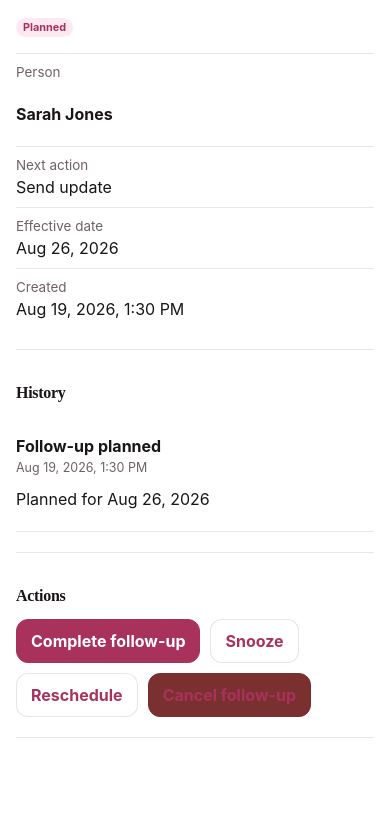
Test: V1-07 full FollowUp screens › shows FollowUp lifecycle state and makes a cancelled plan read-only
(page scrolled)
Expected: the text "Planned" is shown, top-left (16, 18), bottom-right (73, 37)
Expected: the heading "Follow-up planned" is shown, top-left (16, 436), bottom-right (161, 456)
Click the button "Cancel follow-up" at (229, 695), box top-left (148, 673), bottom-right (311, 717)
(page scrolled)
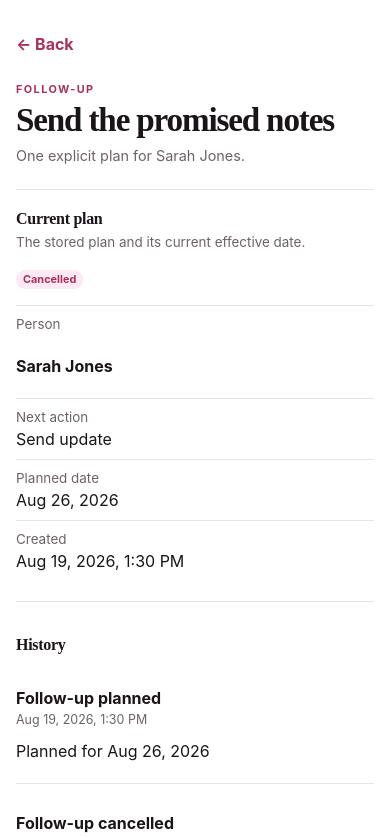
Expected: the text "Cancelled" is shown, top-left (16, 270), bottom-right (83, 289)
Expected: the heading "Follow-up cancelled" is shown, top-left (16, 813), bottom-right (174, 833)
